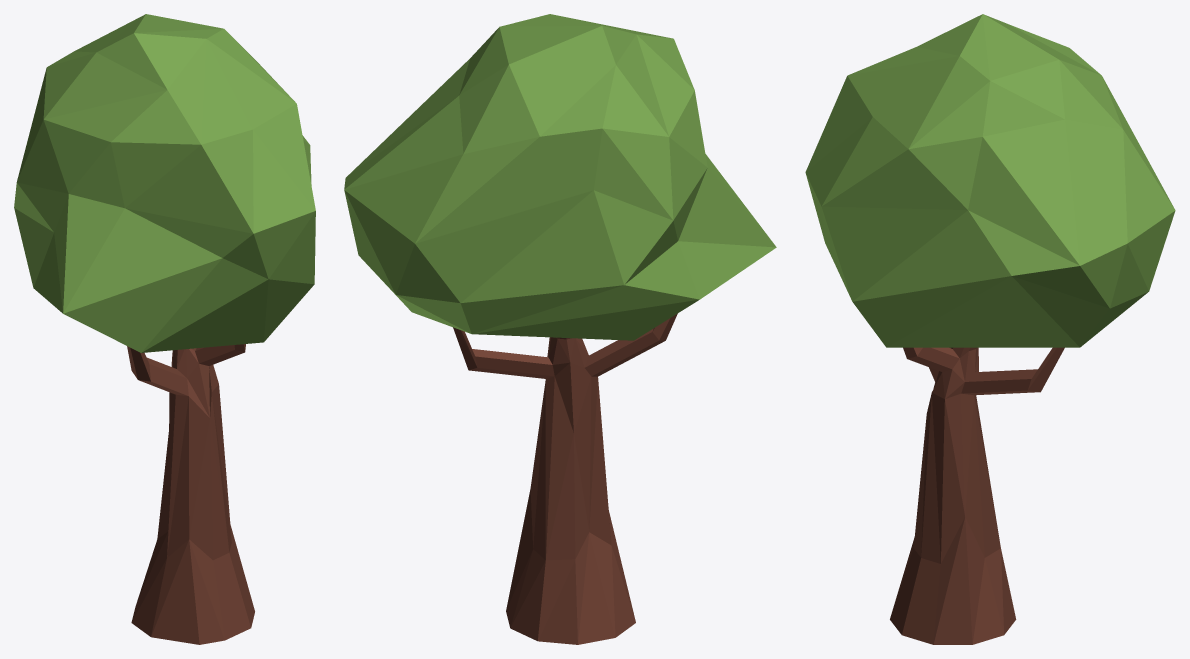
The model's file is baum4.fbx.
3 renders of one model, left to right at view 1: azimuth 30°, elevation 25°; view 2: azimuth 150°, elevation 25°; view 3: azimuth 270°, elevation 25°, orthographic. The views are drawn at different scales.
Parts seen in each view (by area): view 1: baum4_baumkrone1, baum4; view 2: baum4_baumkrone1, baum4; view 3: baum4_baumkrone1, baum4.
Boxes of the visible parts, x1,y1,x2,y2 form: baum4_baumkrone1: (14,14,315,352); baum4: (127,344,254,644); baum4_baumkrone1: (344,14,776,340); baum4: (453,313,677,644); baum4_baumkrone1: (805,14,1175,347); baum4: (890,347,1064,644).
Size of the model in its own units: 262 by 467 by 268.
